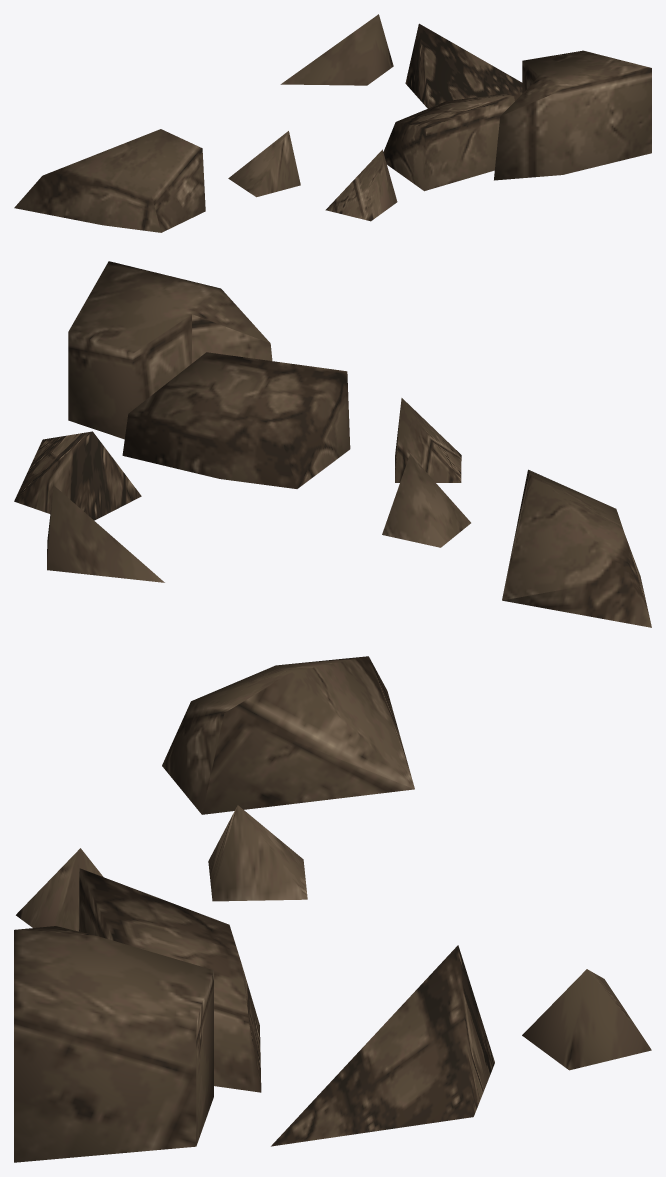
File: Battle04_Stone_02.FBX
The picture shows the model from 3 angles, top to bottom: view 1: azimuth 30°, elevation 25°; view 2: azimuth 150°, elevation 25°; view 3: azimuth 270°, elevation 25°; orthographic projection. The views are drawn at different scales.
Visible parts, largest first — view 1: Battle04_Stone_02; view 2: Battle04_Stone_02; view 3: Battle04_Stone_02.
Part boxes in pixels (box(x1,y1,x2,y2)): Battle04_Stone_02: box(14, 14, 651, 232); Battle04_Stone_02: box(14, 261, 651, 627); Battle04_Stone_02: box(14, 656, 651, 1162).
Bounding box in the file's own units: 3.94 × 0.6002 × 2.25.
